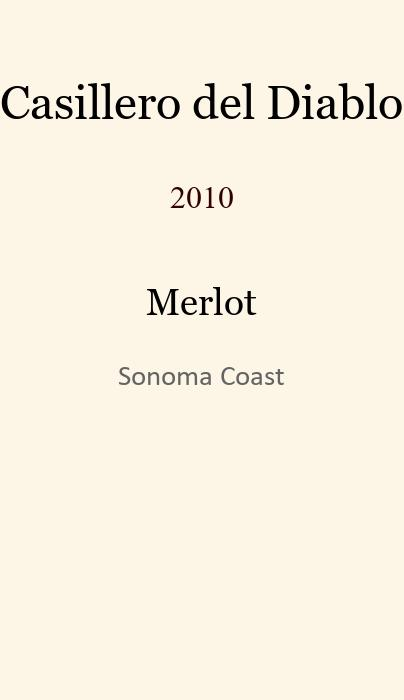brand: (0, 75, 403, 112)
region: (118, 363, 285, 381)
variety: (146, 281, 257, 309)
vintage: (170, 179, 234, 200)
